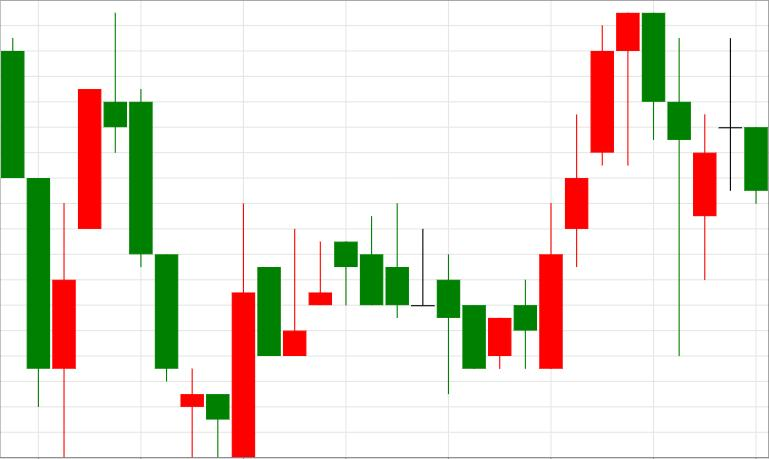bullish_engulfing_rise: (104, 13, 255, 458)
hanging_man_fall: (489, 12, 639, 368)
